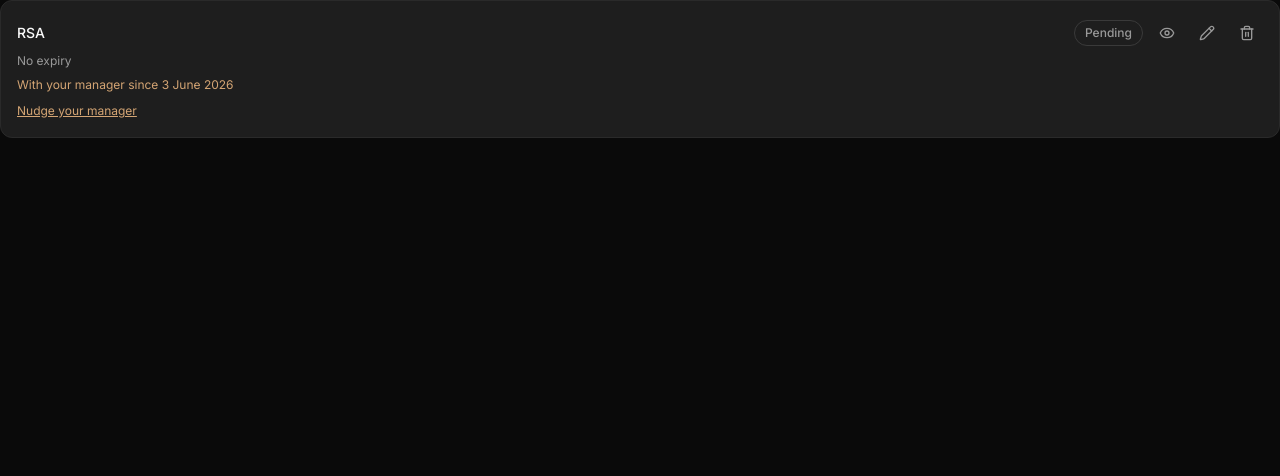
Scenario: MyDocumentsList › edits a document's fields and refreshes the list on save
Expected: the text "RSA" is shown, top-left (17, 23), bottom-right (45, 43)
Click the button named "Edit RSA" at (1207, 33), box top-left (1191, 17), bottom-right (1223, 49)
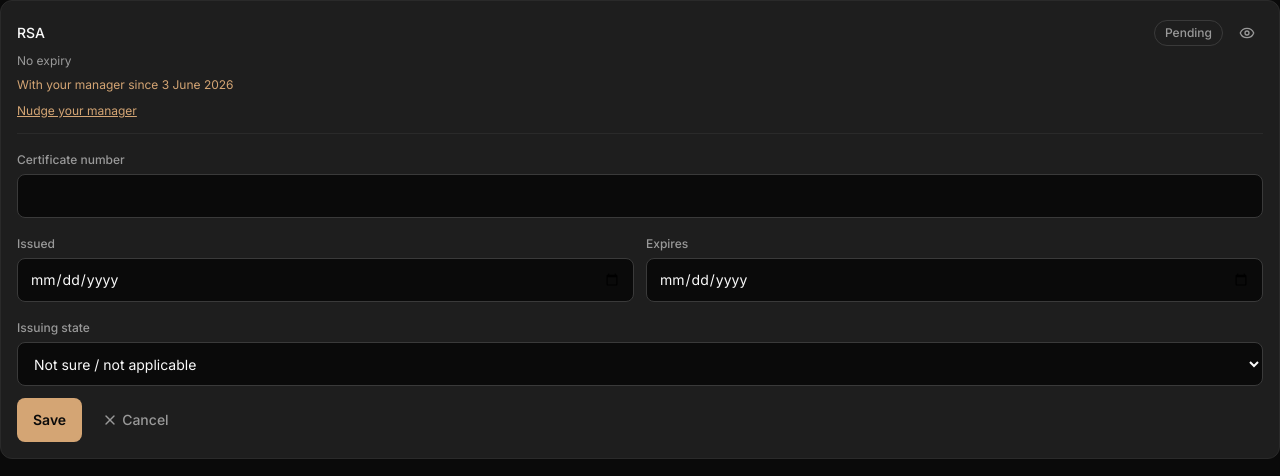
Type "RSA-999" into the field labelled "Certificate number" at (640, 196), box top-left (17, 174), bottom-right (1263, 218)
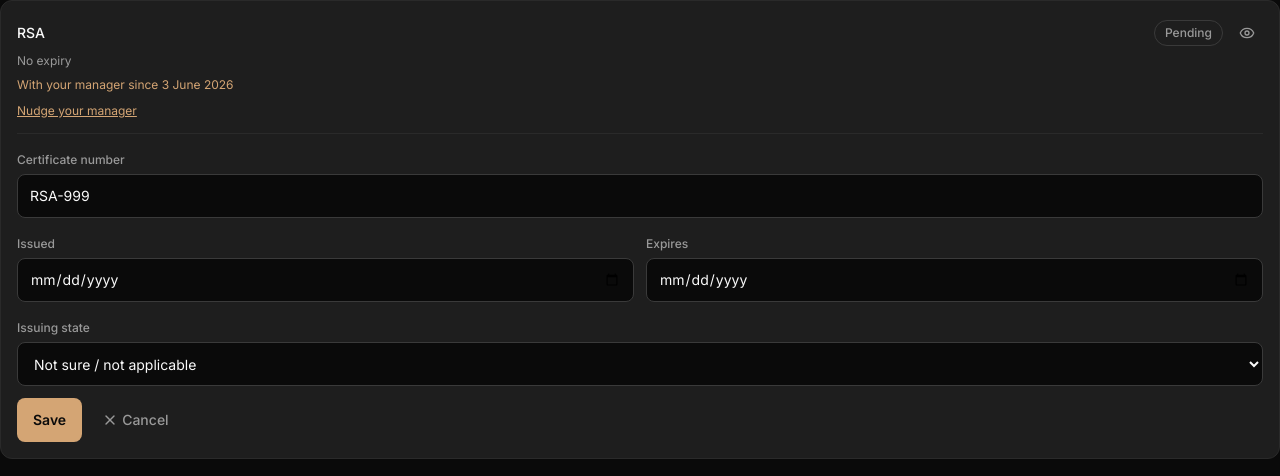
Click the button "Save" at (50, 420), box top-left (17, 398), bottom-right (82, 442)
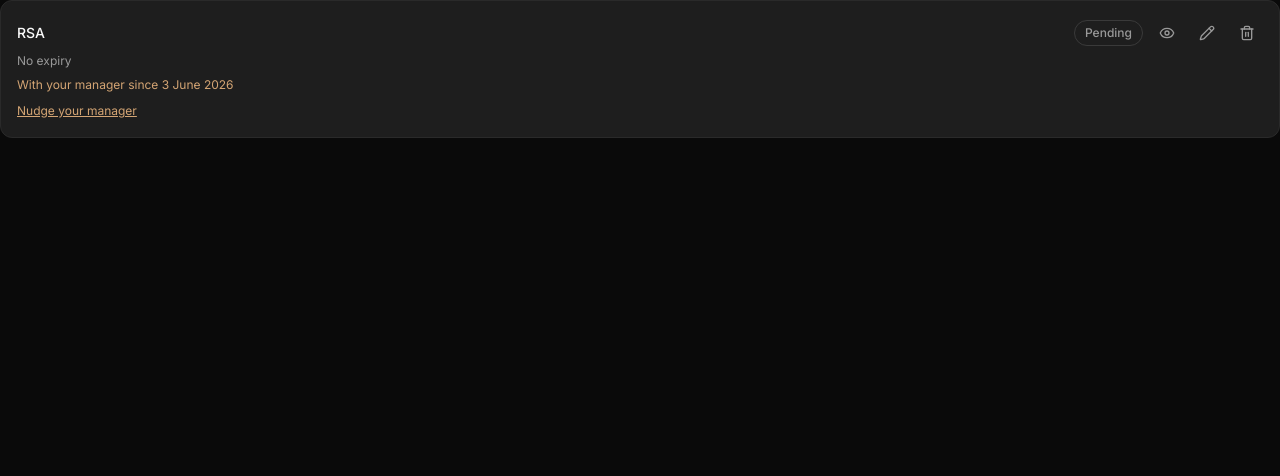
Result: the button "Save" is gone
